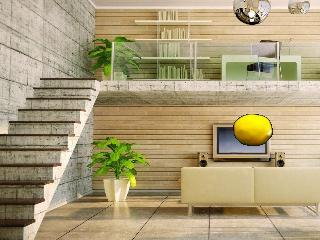lemon: (235, 114, 272, 145)
